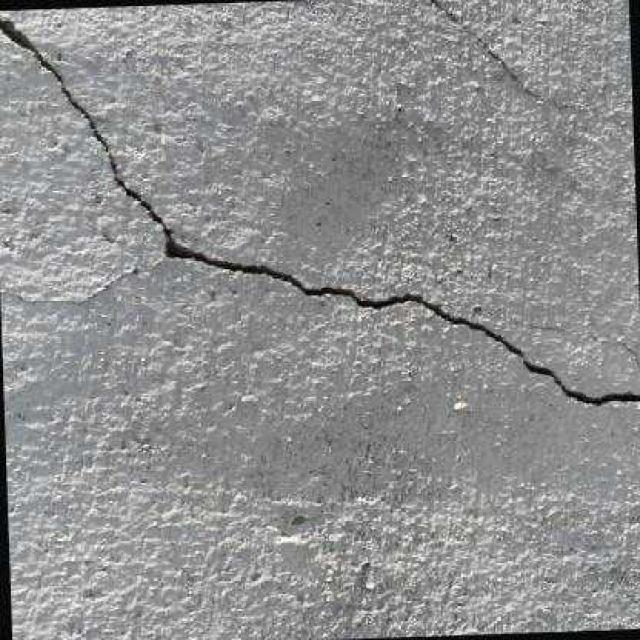D00: (0, 14, 640, 414)
